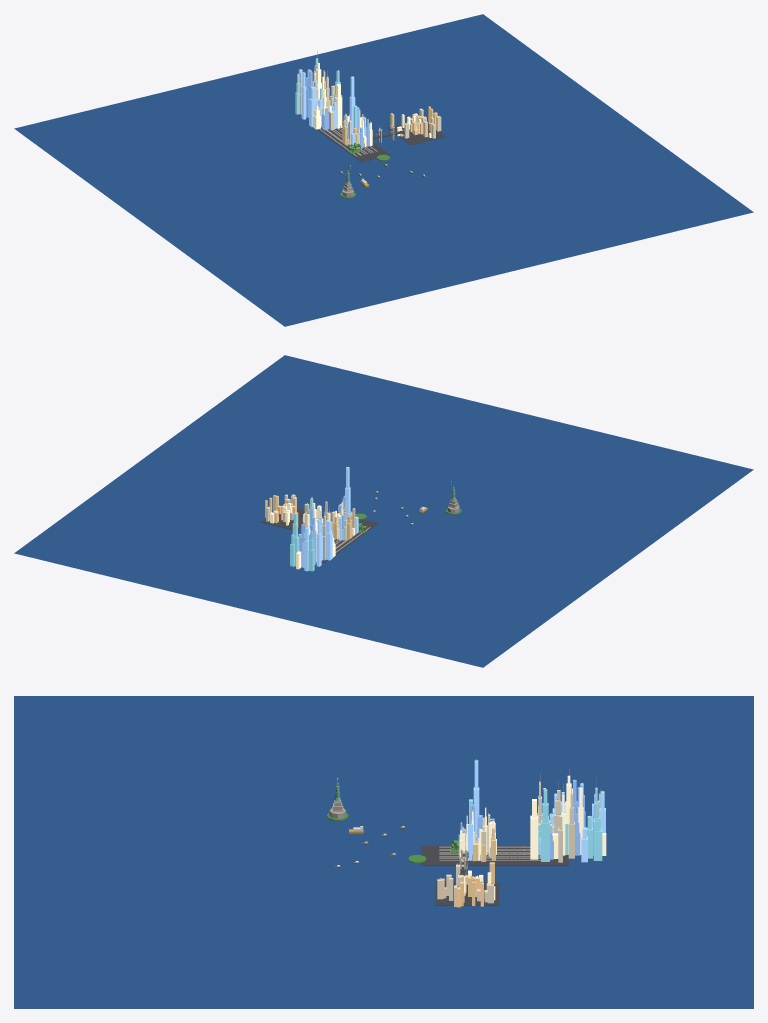
The model's file is nyc_v2.glb.
3 renders of one model, top to bottom at view 1: azimuth 30°, elevation 25°; view 2: azimuth 150°, elevation 25°; view 3: azimuth 270°, elevation 25°, orthographic. The views are drawn at different scales.
Parts seen in each view (by area): view 1: Harbor, Hudson, EastR; view 2: Harbor, EastR, Hudson; view 3: Harbor, Hudson, EastR, ManhGnd, BkGnd.
Boxes of the visible parts, box(x1,y1,x2,y2) form: Harbor: box(14, 14, 753, 326); Hudson: box(135, 68, 504, 223); EastR: box(188, 55, 539, 160); Harbor: box(14, 355, 753, 667); EastR: box(139, 456, 497, 556); Hudson: box(242, 469, 447, 621); Harbor: box(14, 696, 753, 1008); Hudson: box(310, 758, 679, 914); EastR: box(310, 794, 679, 950); ManhGnd: box(421, 845, 568, 865); BkGnd: box(435, 882, 499, 905).
Bounding box in the file's own units: 400 × 56.66 × 400.
